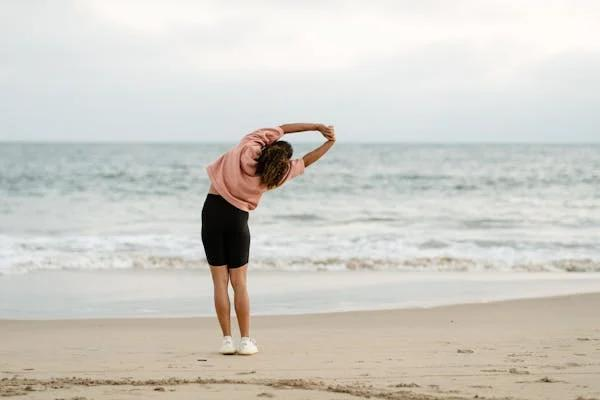Human: (198, 98, 328, 364)
